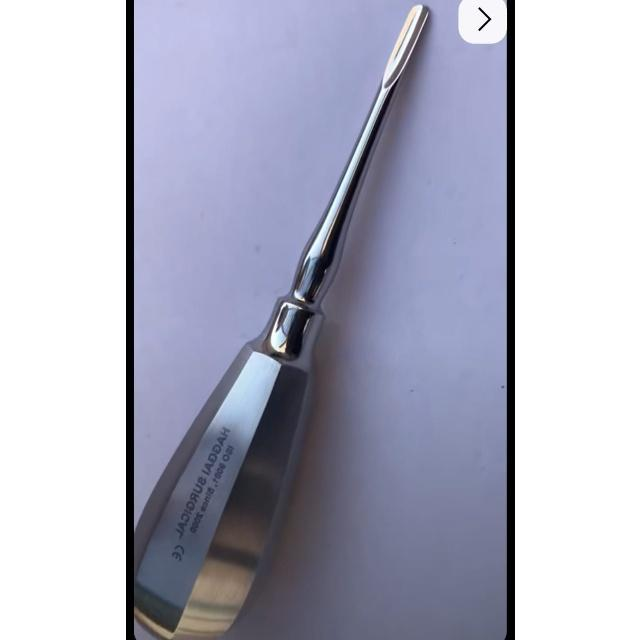botador: (133, 5, 434, 639)
